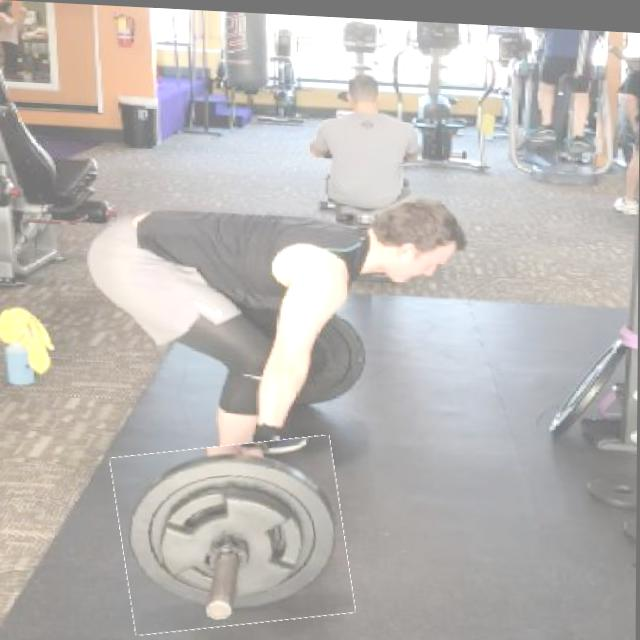barbell: (116, 432, 352, 635)
